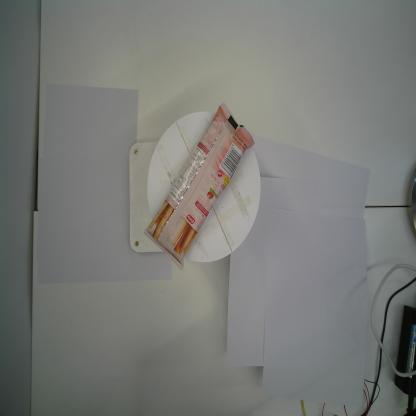Dessert: (142, 101, 256, 274)
